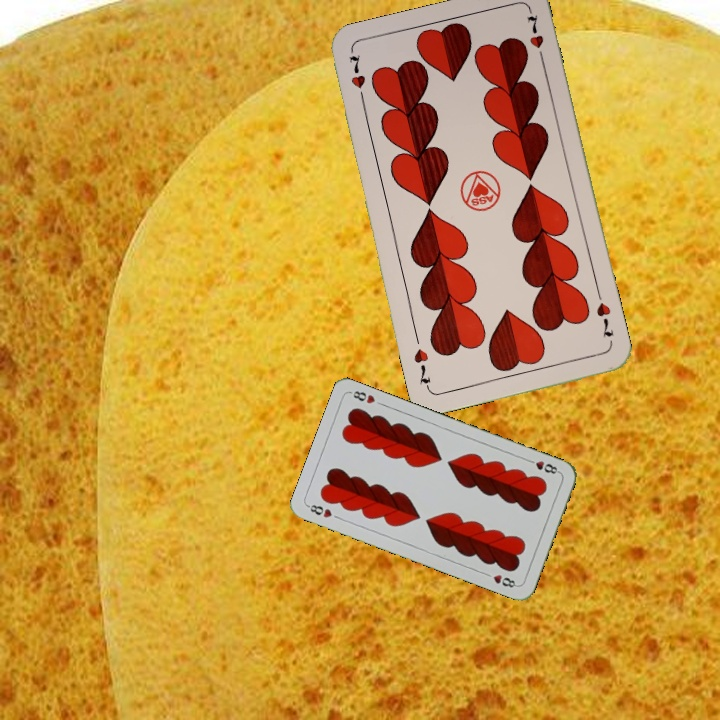H7: (345, 50, 368, 107), (592, 298, 616, 340)
H8: (523, 455, 562, 477), (304, 500, 335, 521)
